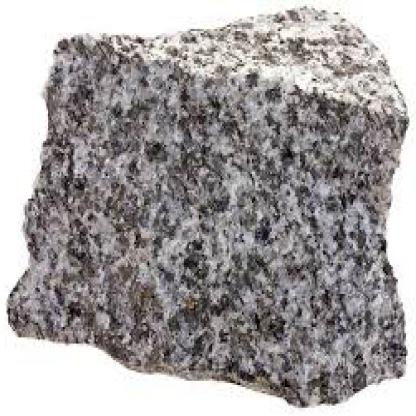Igneous_Diorite: (2, 4, 414, 414)
